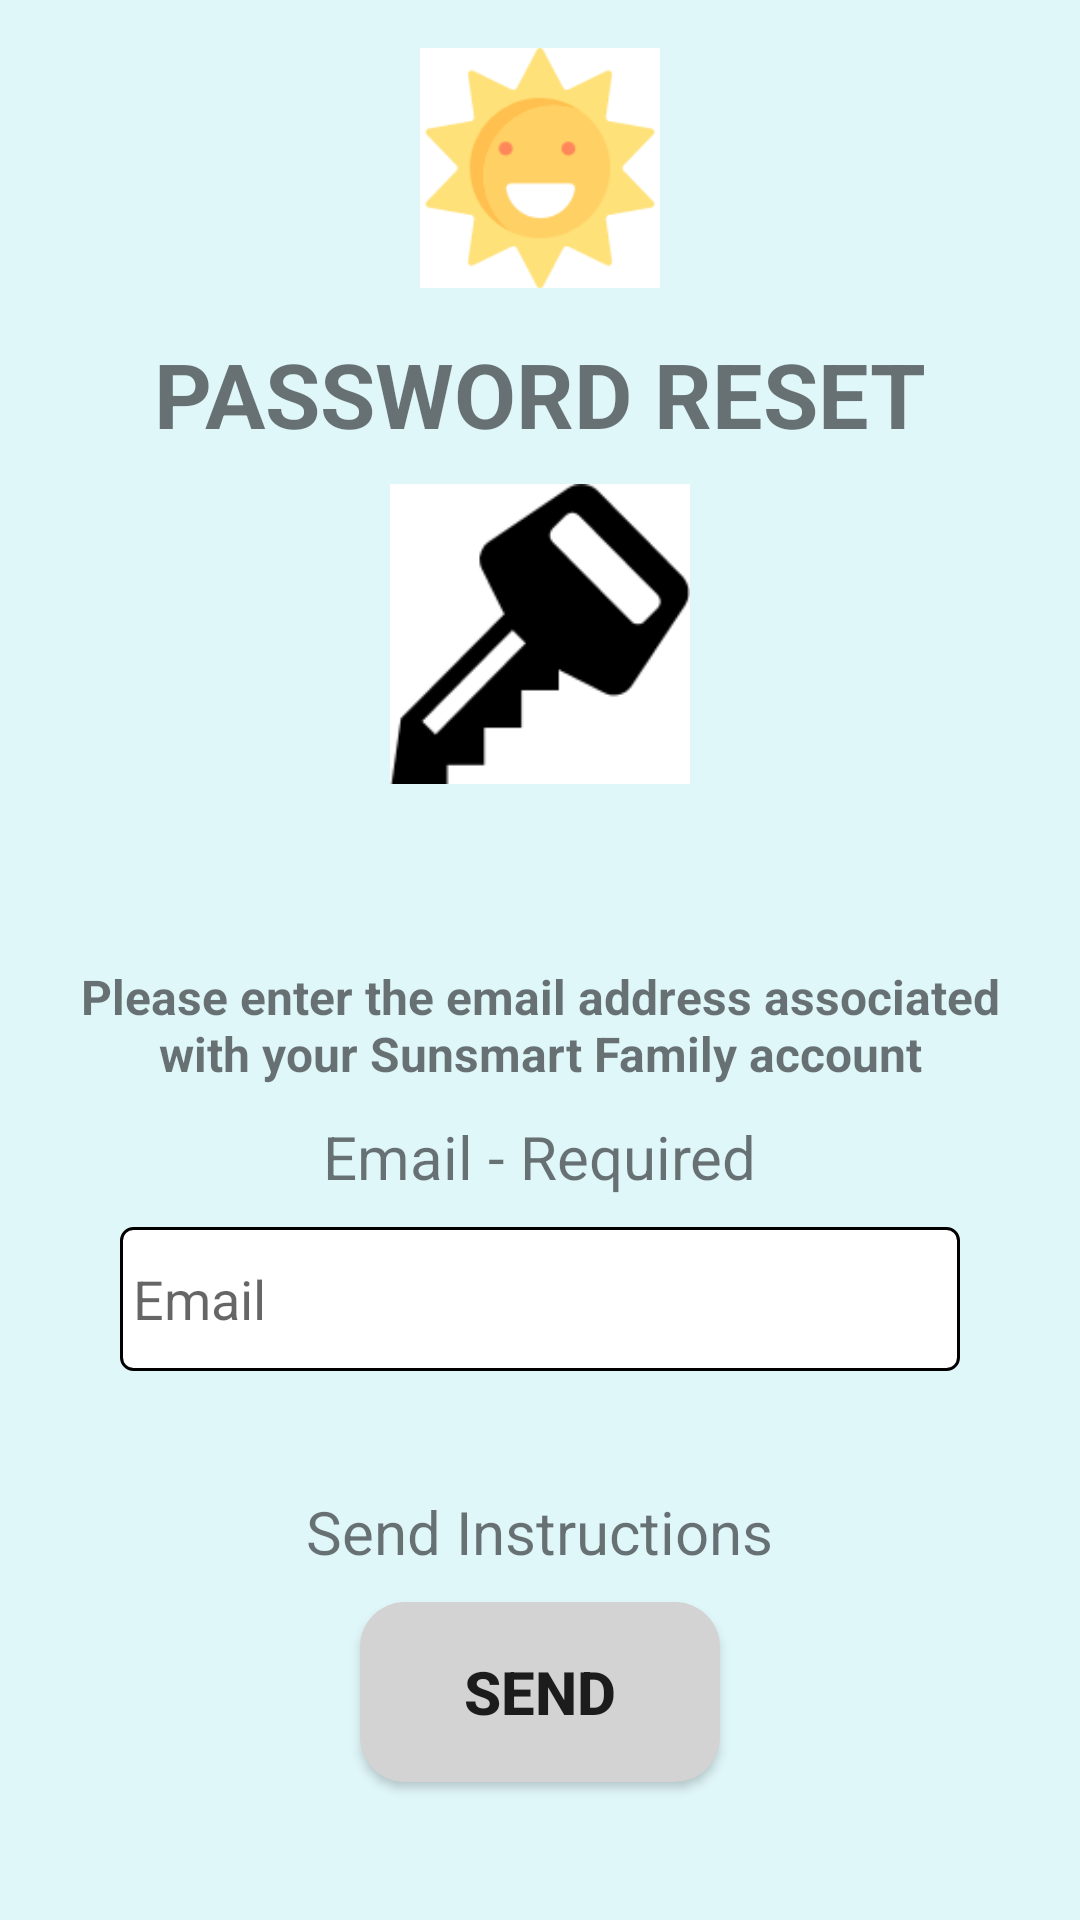

Icon click points for this 1080px×1920px phone screenshot, format (x,y):
key: (540,634)
sun: (540,168)
